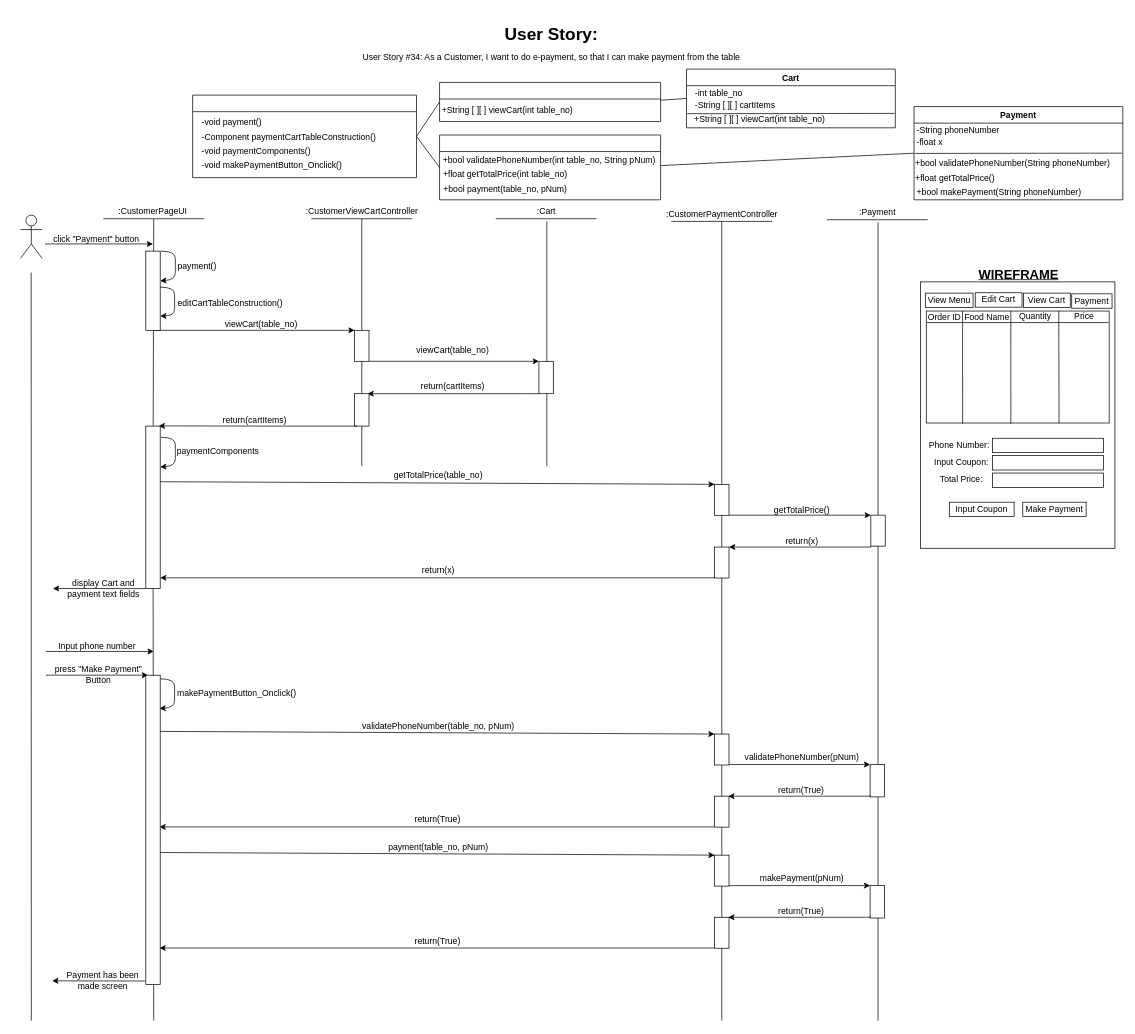
This 1135x1034 diagram has some shape labels left out. The box of each missing label's shape, as (x1, y1, x2, y2) in pixels:
Customer: (20, 214, 42, 258)
CustomerPageUI: (192, 94, 417, 178)
CustomerPaymentController: (439, 134, 661, 200)
CustomerViewCartController: (439, 82, 661, 122)
